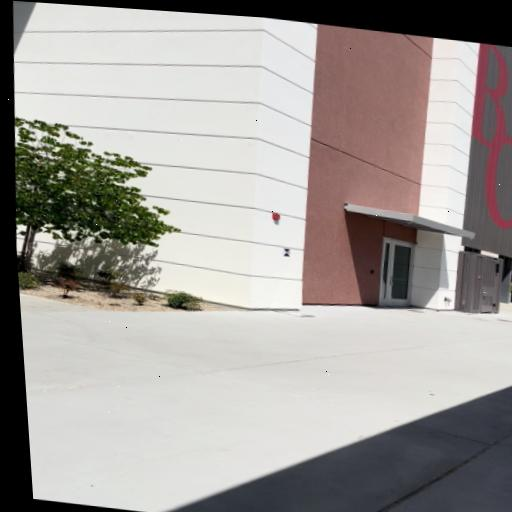target2: (283, 249, 291, 257)
